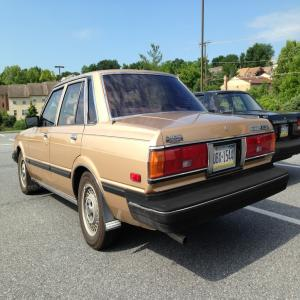Vehicle-registration-plate: (213, 145, 238, 175), (281, 125, 290, 139)
